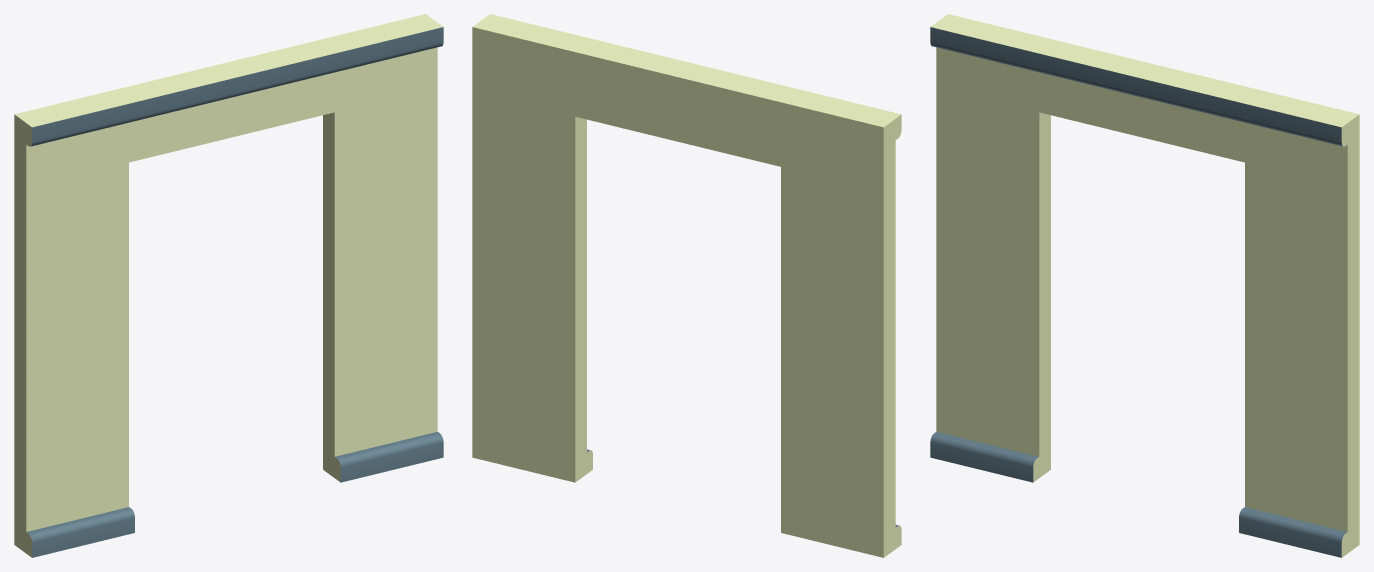
Rendered from Modular_01_Doorway_2m.fbx.
The picture shows the model from 3 angles, left to right: view 1: azimuth 30°, elevation 25°; view 2: azimuth 150°, elevation 25°; view 3: azimuth 330°, elevation 25°; orthographic projection.
Visible parts, largest first — view 1: Modular_01_Doorway_2m; view 2: Modular_01_Doorway_2m; view 3: Modular_01_Doorway_2m.
Part boxes in pixels (x1,y1,x2,y2): Modular_01_Doorway_2m: (14,14,443,557); Modular_01_Doorway_2m: (472,14,901,557); Modular_01_Doorway_2m: (930,14,1359,557).
Size of the model in its own units: 200 by 200 by 15.
